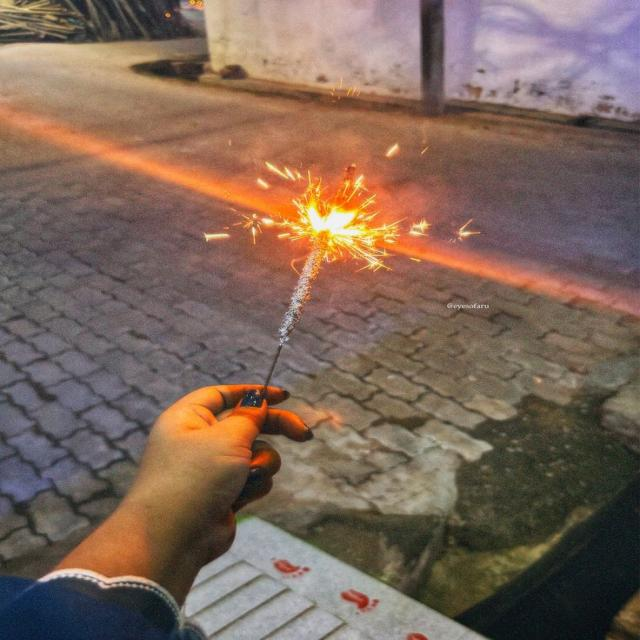fire: (305, 202, 366, 245)
